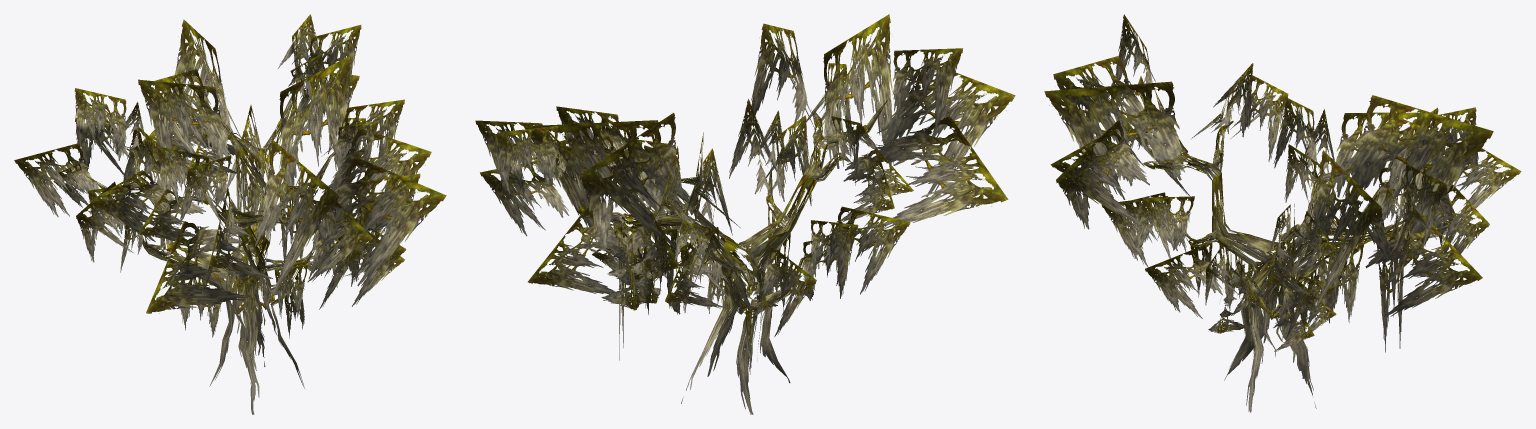
Rendered from Tree3.obj.
The picture shows the model from 3 angles, left to right: view 1: azimuth 30°, elevation 25°; view 2: azimuth 150°, elevation 25°; view 3: azimuth 270°, elevation 25°; orthographic projection. The views are drawn at different scales.
Visible parts, largest first — view 1: world/azeroth/theblastedlands/passivedoodads/trees/blastedlands_; view 2: world/azeroth/theblastedlands/passivedoodads/trees/blastedlands_; view 3: world/azeroth/theblastedlands/passivedoodads/trees/blastedlands_.
Part boxes in pixels (bbox=[...]): world/azeroth/theblastedlands/passivedoodads/trees/blastedlands_: bbox=[14, 14, 446, 414]; world/azeroth/theblastedlands/passivedoodads/trees/blastedlands_: bbox=[475, 14, 1015, 414]; world/azeroth/theblastedlands/passivedoodads/trees/blastedlands_: bbox=[1044, 14, 1521, 412].
Size of the model in its own units: 40.1 by 32.89 by 45.82.
Materials: 1 (1 with a texture image).
